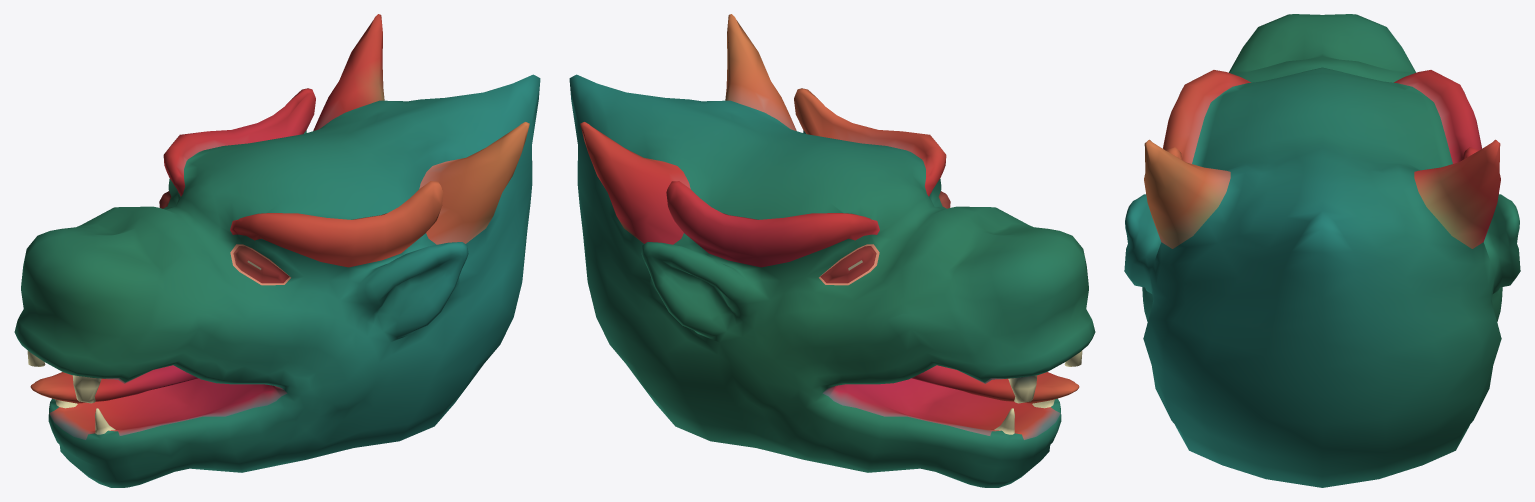
File: dRAGON3.fbx
3 views of the same model, side by side, from view 1: azimuth 30°, elevation 25°; view 2: azimuth 150°, elevation 25°; view 3: azimuth 270°, elevation 25° (orthographic). The views are drawn at different scales.
Parts seen in each view (by area): view 1: Dragon; view 2: Dragon; view 3: Dragon.
Part boxes in pixels (box(x1,y1,x2,y2)): Dragon: box(14, 14, 540, 487); Dragon: box(569, 14, 1095, 487); Dragon: box(1124, 14, 1520, 487).
Size of the model in its own units: 0.5563 by 0.3359 by 0.3154.
